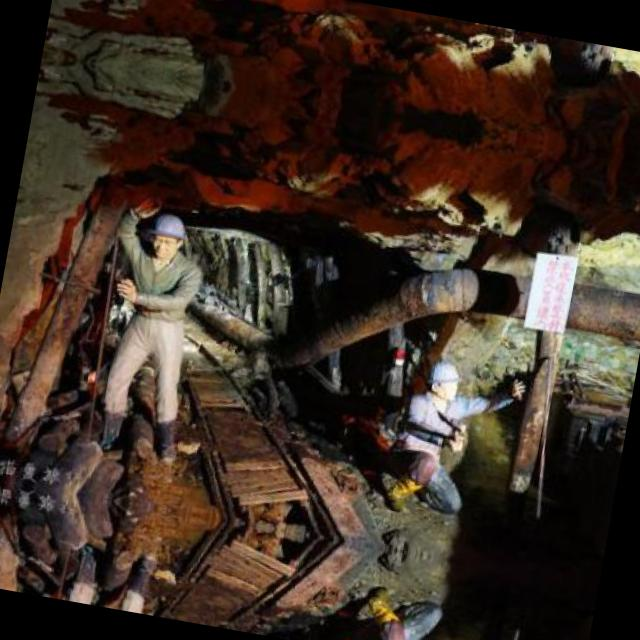helmet: (137, 204, 190, 262), (422, 354, 463, 404)
